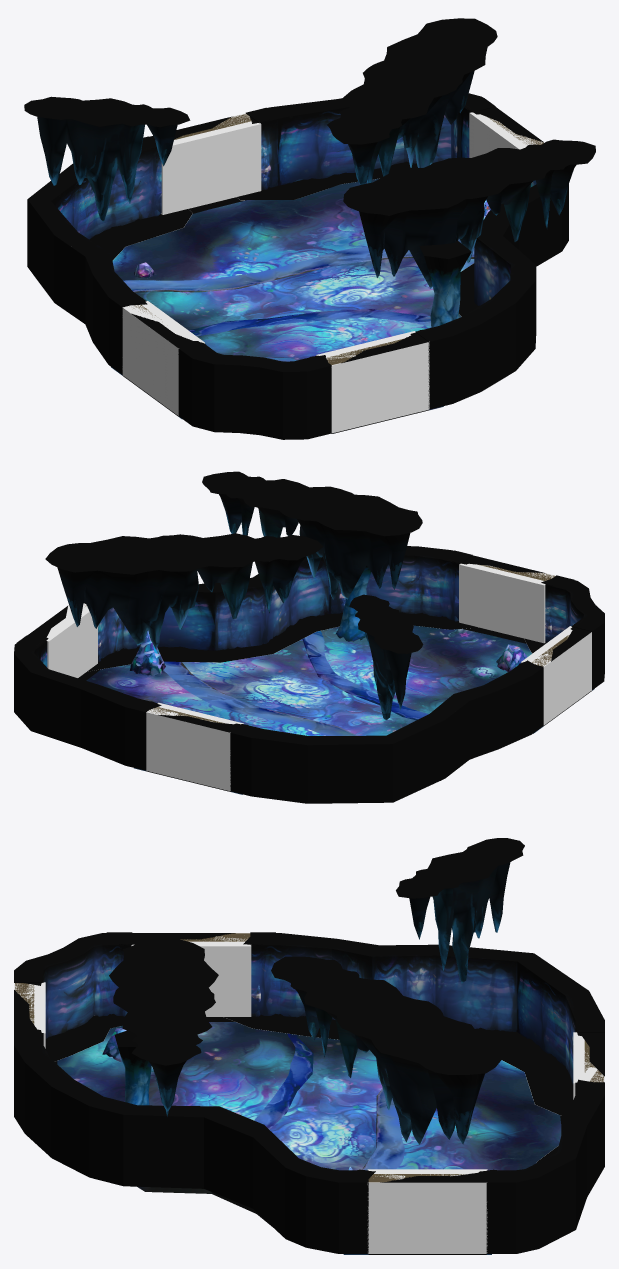
The model's file is Dungeon_052_RoomSW_006.fbx.
The picture shows the model from 3 angles, top to bottom: view 1: azimuth 30°, elevation 25°; view 2: azimuth 150°, elevation 25°; view 3: azimuth 270°, elevation 25°; orthographic projection. The views are drawn at different scales.
Visible parts, largest first — view 1: Dun_011_Room_003_wall, Dun_011_Room_003_ground, DoorWay_NavMask (1) (×4), Dungeon_011_Iwa004_2, Dungeon_011_Iwa004_3, Dungeon_011_Iwa004_1, Dun_011_Room_003_kawa01, Dun_011_Room_003_shadow, Dun_011_Door_002_old (×4), Dungeon_011_Object_010; view 2: Dun_011_Room_003_wall, Dun_011_Room_003_ground, Dungeon_011_Iwa004_3, DoorWay_NavMask (1) (×4), Dungeon_011_Iwa004_2, Dungeon_011_Iwa004_1, Dun_011_Room_003_kawa01, Dun_011_Room_003_shadow, Dun_011_Door_002_old (×4), Dungeon_011_Object_010, Dungeon_011_Object_011, Dungeon_011_Object_012; view 3: Dun_011_Room_003_wall, Dun_011_Room_003_ground, Dungeon_011_Iwa004_3, DoorWay_NavMask (1) (×4), Dungeon_011_Iwa004_2, Dungeon_011_Iwa004_1, Dun_011_Room_003_shadow, Dun_011_Door_002_old (×4), Dun_011_Room_003_kawa01, Dungeon_011_Object_010.
Boxes of the visible parts, x1,y1,x2,y2 form: Dun_011_Room_003_wall: (27,93,568,439); Dun_011_Room_003_ground: (111,178,474,419); DoorWay_NavMask (1) (×4): (122,112,544,433); Dungeon_011_Iwa004_2: (343,139,595,288); Dungeon_011_Iwa004_3: (327,18,497,184); Dungeon_011_Iwa004_1: (24,96,190,221); Dun_011_Room_003_kawa01: (123,246,474,336); Dun_011_Room_003_shadow: (89,161,479,316); Dun_011_Door_002_old (×4): (111,97,543,370); Dungeon_011_Object_010: (419,241,471,327); Dun_011_Room_003_wall: (14,546,604,803); Dun_011_Room_003_ground: (86,625,594,794); Dungeon_011_Iwa004_3: (45,533,323,648); DoorWay_NavMask (1) (×4): (46,563,591,790); Dungeon_011_Iwa004_2: (202,471,422,599); Dungeon_011_Iwa004_1: (349,594,423,720); Dun_011_Room_003_kawa01: (163,630,472,780); Dun_011_Room_003_shadow: (87,612,545,671); Dun_011_Door_002_old (×4): (17,550,601,736); Dungeon_011_Object_010: (336,566,371,641); Dungeon_011_Object_011: (129,630,165,675); Dungeon_011_Object_012: (496,644,527,671); Dun_011_Room_003_wall: (14,933,604,1253); Dun_011_Room_003_ground: (57,1022,561,1254); Dungeon_011_Iwa004_3: (271,956,501,1144); DoorWay_NavMask (1) (×4): (14,933,604,1253); Dungeon_011_Iwa004_2: (109,938,218,1116); Dungeon_011_Iwa004_1: (396,838,524,983); Dun_011_Room_003_shadow: (45,1013,573,1162); Dun_011_Door_002_old (×4): (14,932,604,1182); Dun_011_Room_003_kawa01: (137,1033,404,1226); Dungeon_011_Object_010: (114,1030,151,1105).
Size of what is drawn, in the model's own units: 15 by 6.03 by 15.
